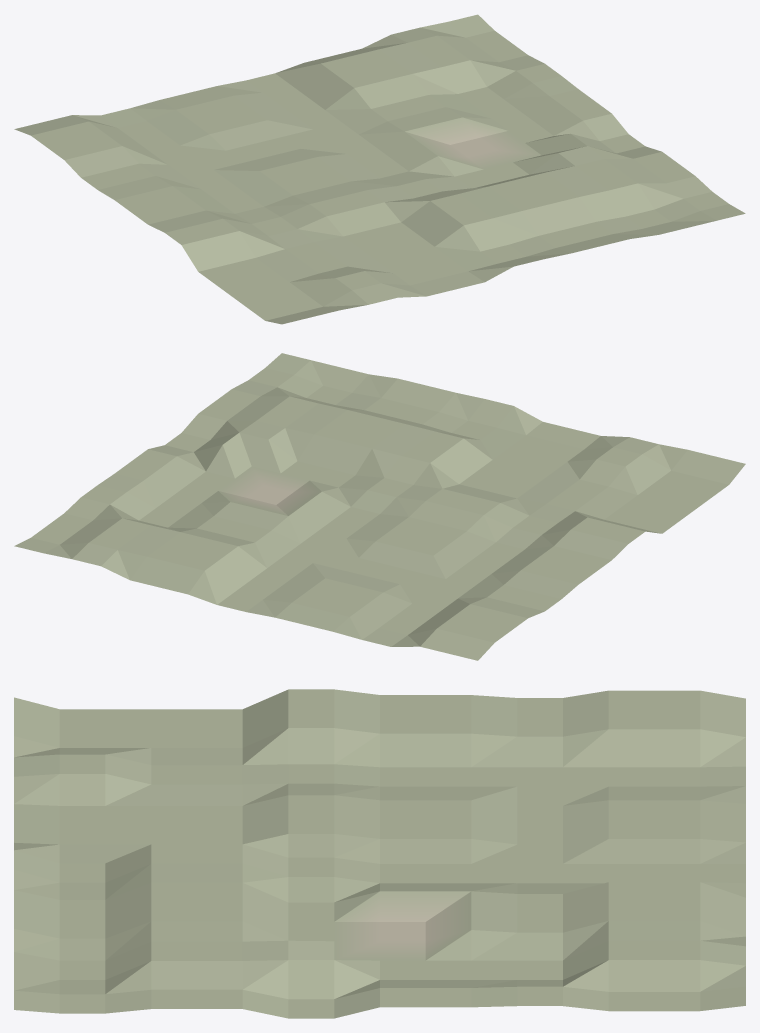
3 views of the same model, one above another, from view 1: azimuth 30°, elevation 25°; view 2: azimuth 150°, elevation 25°; view 3: azimuth 270°, elevation 25° (orthographic). The views are drawn at different scales.
Size of the model in its own units: 32 by 0.9857 by 32.
